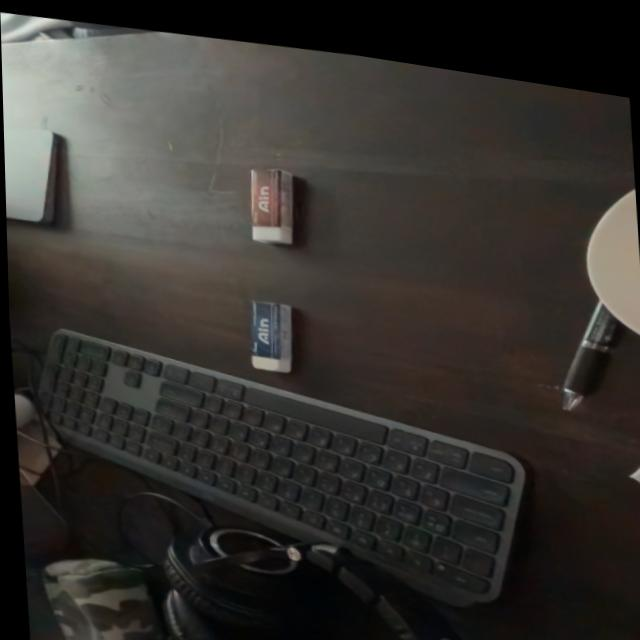blue: (237, 280, 302, 370)
red: (234, 146, 305, 245)
